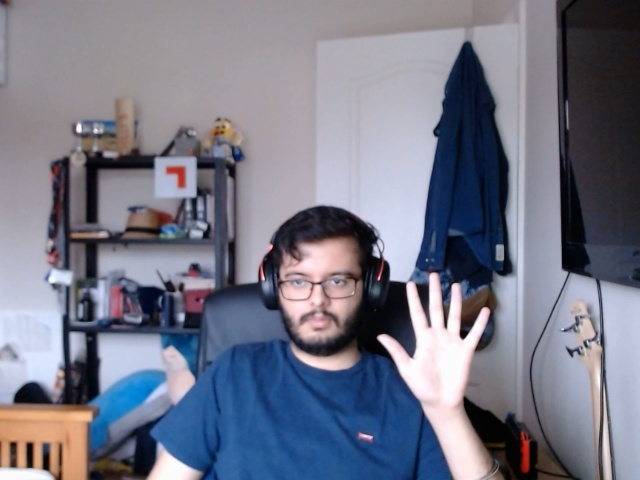Hello: (375, 271, 497, 410)
